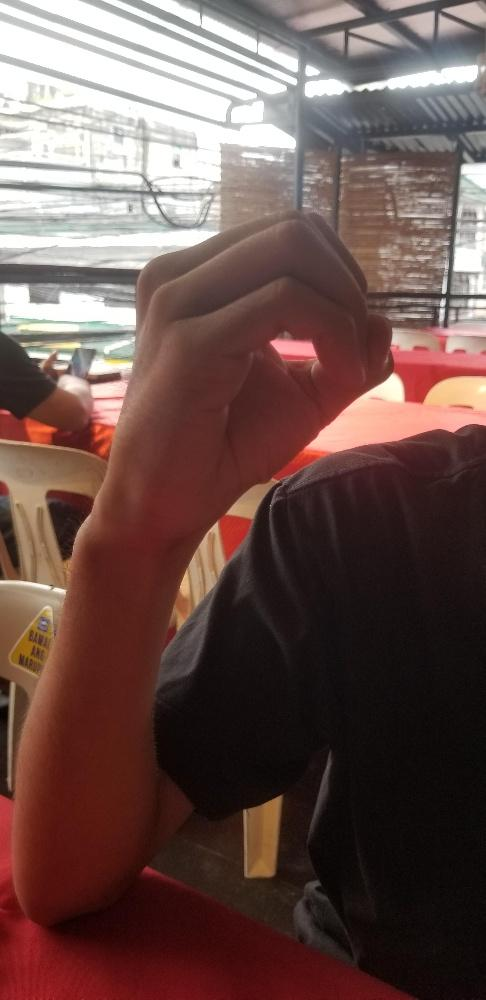o: (98, 203, 398, 538)
